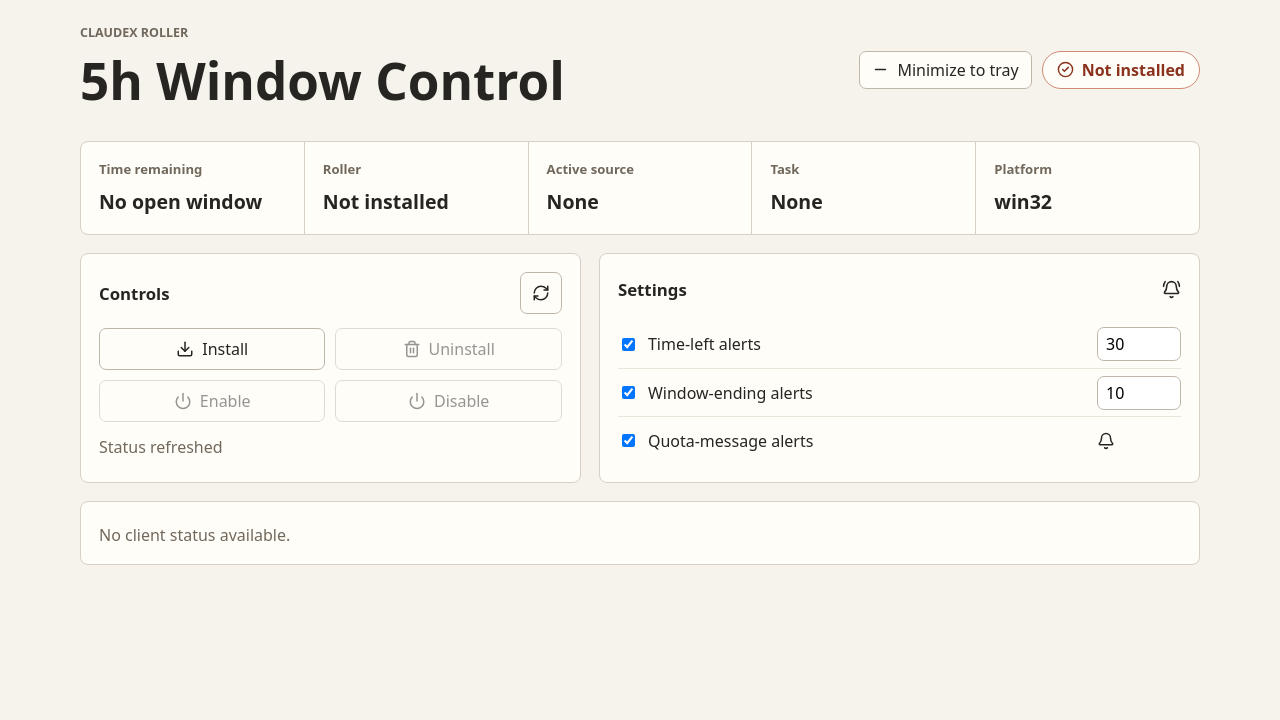
Test: App controls › shows command stderr when install fails
Expected: the text "Status refreshed" is shown, [99,436,223,458]
Click the button "Install": (212, 349) [99,328,326,370]
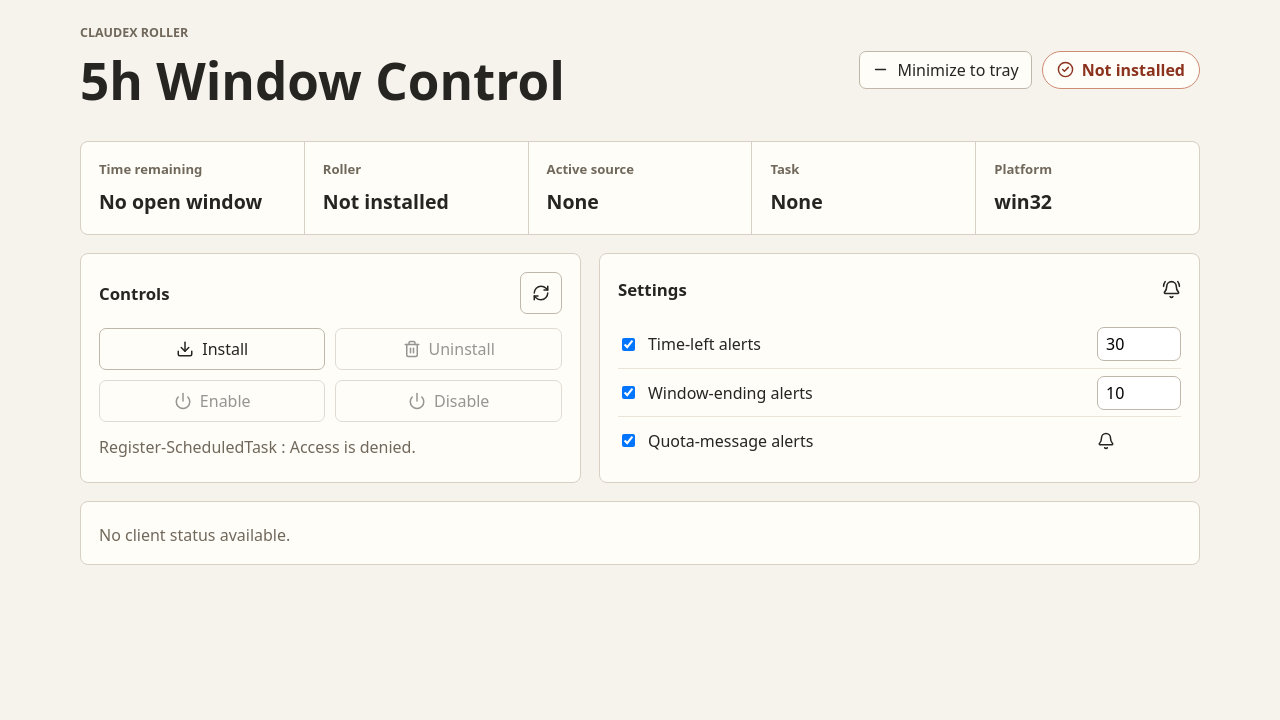
Expected: the text "Register-ScheduledTask : Access is denied." is shown, [99,436,416,458]
